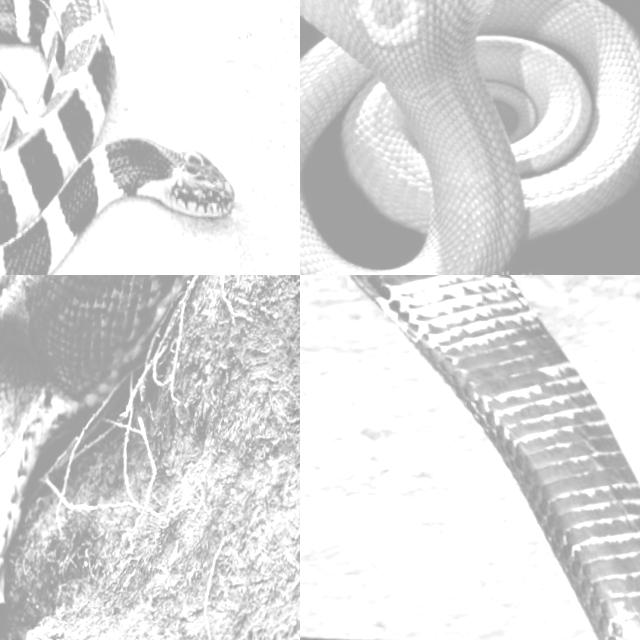Bungarus fasciatus: (0, 0, 233, 274)
Malayopython reticulatus: (0, 275, 189, 572)
Naja kaouthia: (300, 0, 639, 274)
Ophiophagus hannah: (351, 275, 639, 639)
snake: (351, 275, 639, 639), (300, 0, 639, 274), (0, 0, 233, 274), (0, 275, 189, 572)
